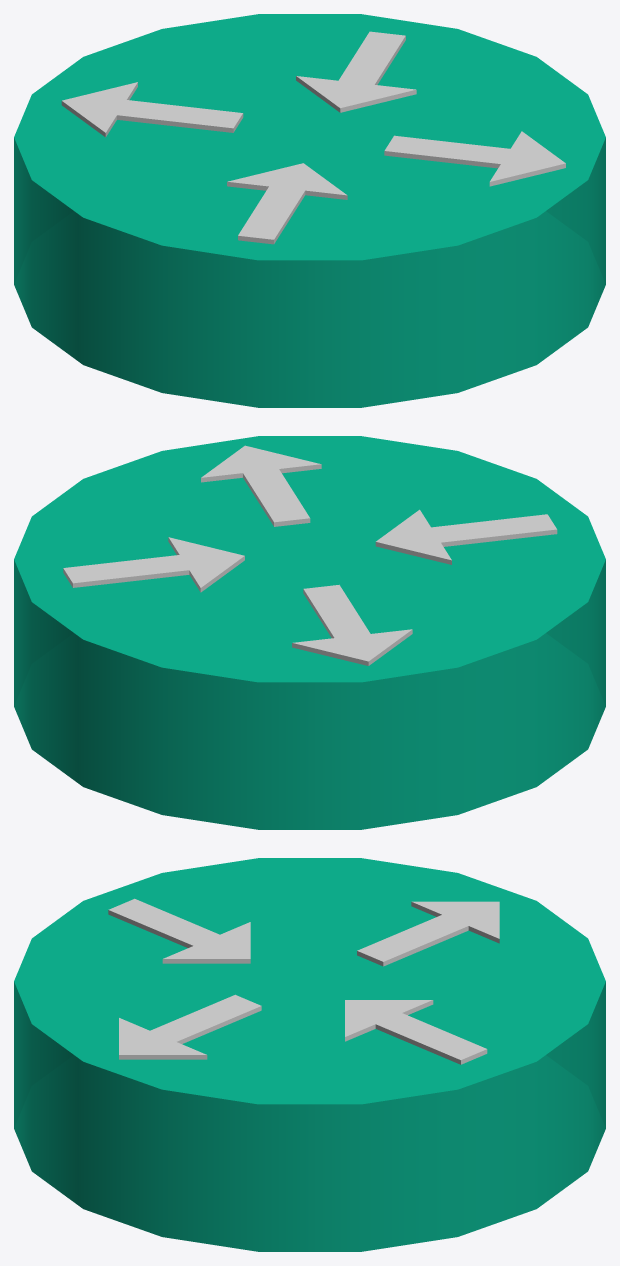
Rendered from switch.FBX.
3 views of the same model, one above another, from view 1: azimuth 30°, elevation 25°; view 2: azimuth 150°, elevation 25°; view 3: azimuth 270°, elevation 25° (orthographic).
Parts seen in each view (by area): view 1: 对象420, Cylinder050, Rectangle007; view 2: 对象420, Cylinder050, Rectangle007; view 3: 对象420, Cylinder050, Rectangle007.
Part boxes in pixels (x1=…): 对象420: x1=14, y1=14, x2=605, y2=260; Cylinder050: x1=14, y1=138, x2=605, y2=407; Rectangle007: x1=61, y1=31, x2=565, y2=244; 对象420: x1=14, y1=436, x2=605, y2=682; Cylinder050: x1=14, y1=560, x2=605, y2=829; Rectangle007: x1=63, y1=445, x2=557, y2=665; 对象420: x1=14, y1=858, x2=605, y2=1104; Cylinder050: x1=14, y1=982, x2=605, y2=1251; Rectangle007: x1=108, y1=898, x2=499, y2=1064.
Bounding box in the file's own units: 444 × 128 × 450.
